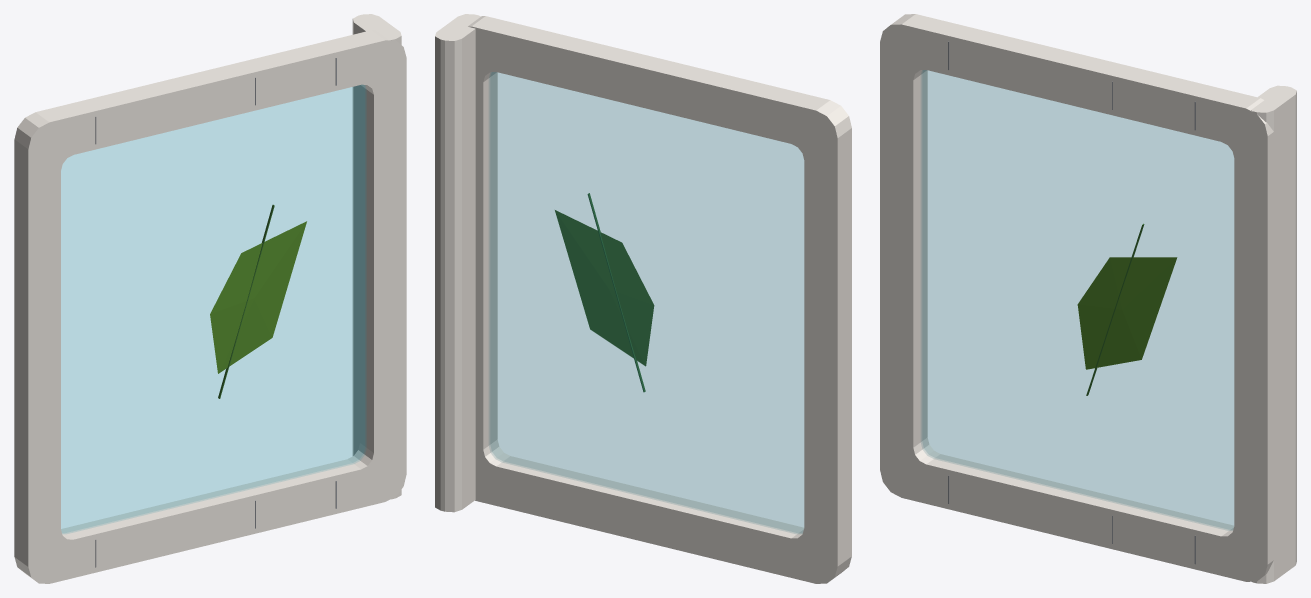
File: wall_bay_tall.glb
3 renders of one model, left to right at view 1: azimuth 30°, elevation 25°; view 2: azimuth 150°, elevation 25°; view 3: azimuth 330°, elevation 25°, orthographic. The views are drawn at different scales.
Visible parts, largest first — view 1: frutiger_aero_wall_bay_tall; view 2: frutiger_aero_wall_bay_tall; view 3: frutiger_aero_wall_bay_tall.
Part boxes in pixels (<box>): frutiger_aero_wall_bay_tall: <box>14,14,406,583</box>; frutiger_aero_wall_bay_tall: <box>435,14,851,583</box>; frutiger_aero_wall_bay_tall: <box>880,14,1296,583</box>.
Bounding box in the file's own units: 3.6 × 4.2 × 0.556.
4 materials, 4 textured.
